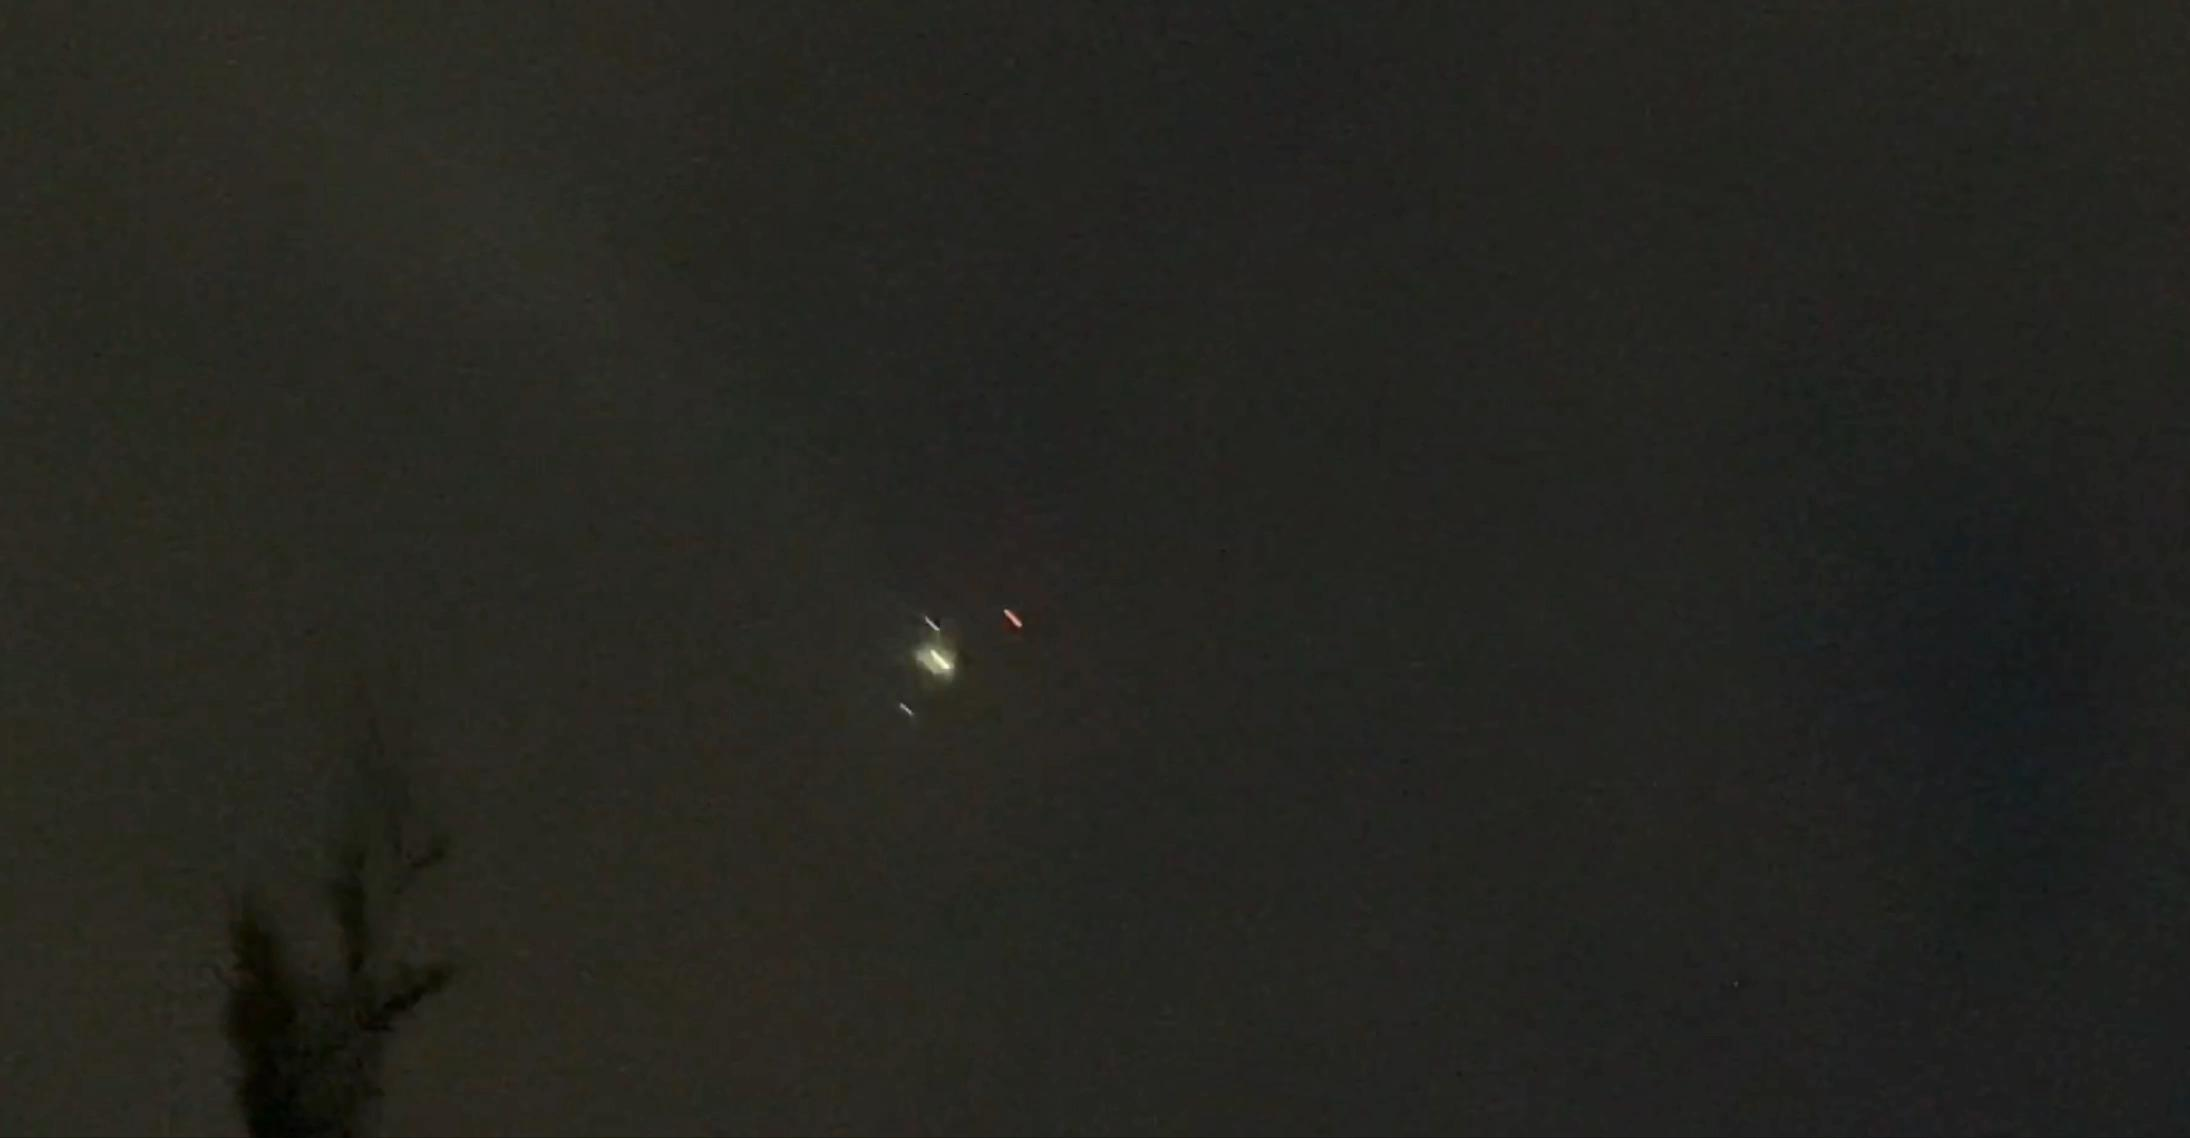Plane: (813, 583, 1078, 733)
